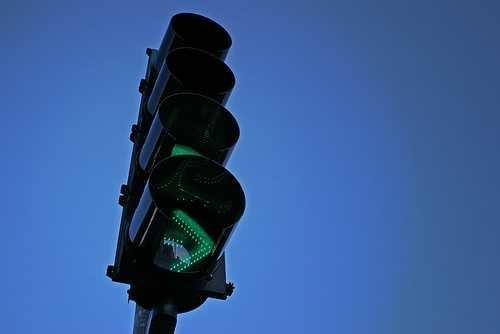green: (146, 157, 235, 276)
